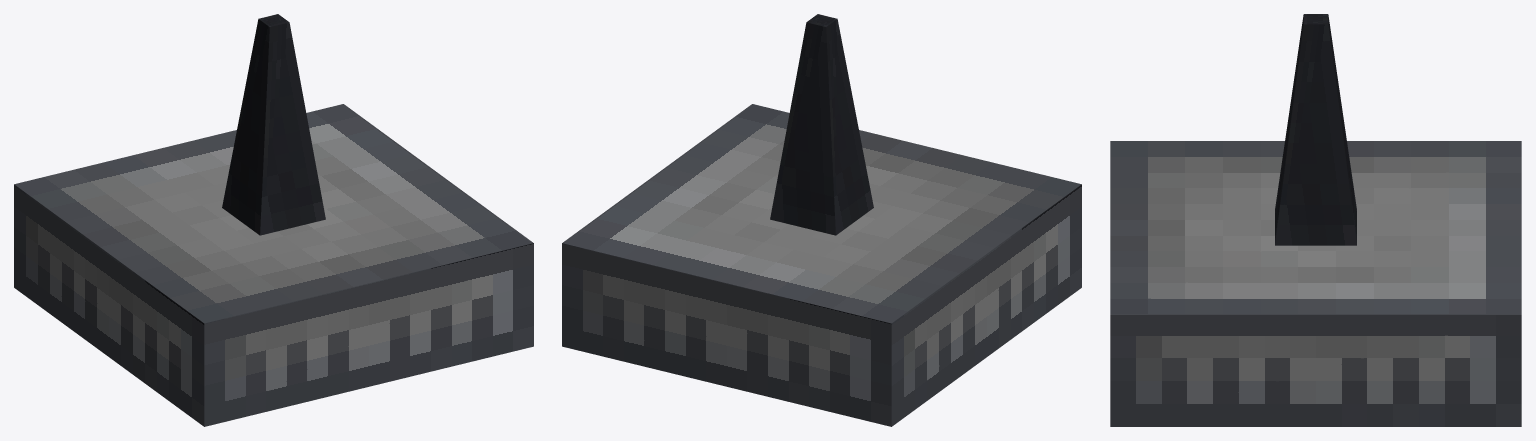
File: collector.obj
3 renders of one model, left to right at view 1: azimuth 30°, elevation 25°; view 2: azimuth 150°, elevation 25°; view 3: azimuth 270°, elevation 25°, orthographic. The views are drawn at different scales.
Visible parts, largest first — view 1: Cube_Cube.002; view 2: Cube_Cube.002; view 3: Cube_Cube.002.
Boxes of the visible parts, x1=… form: Cube_Cube.002: x1=14, y1=14, x2=533, y2=426; Cube_Cube.002: x1=562, y1=14, x2=1081, y2=426; Cube_Cube.002: x1=1110, y1=14, x2=1521, y2=426.
Size of the model in its own units: 1 by 0.86 by 1.
